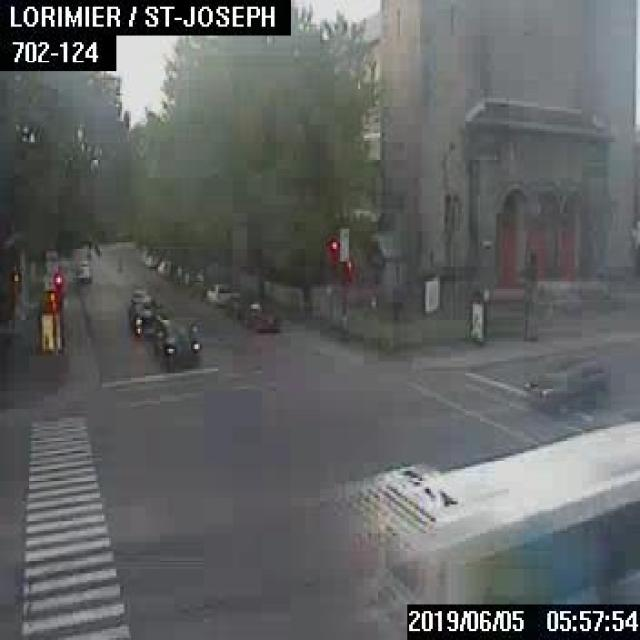bus: (356, 416, 638, 638)
vehicle: (402, 600, 638, 638), (522, 354, 608, 414), (152, 318, 199, 370), (127, 296, 164, 334), (242, 300, 278, 330), (205, 282, 240, 306), (74, 266, 90, 282), (156, 258, 170, 274), (142, 251, 156, 265)
